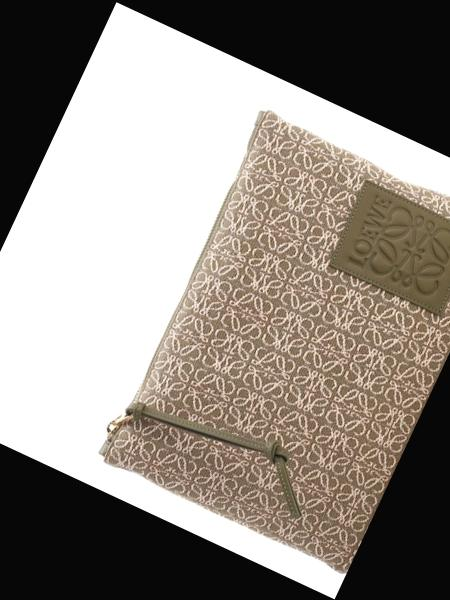LOEWE: (354, 188, 450, 309)
